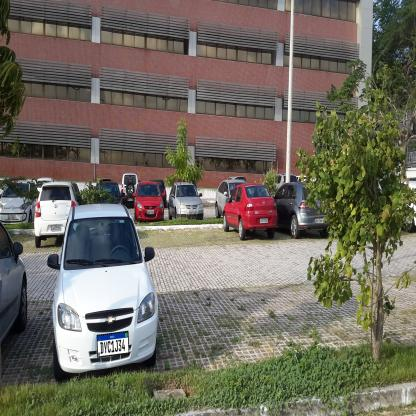PlacaM: (97, 331, 129, 358)
